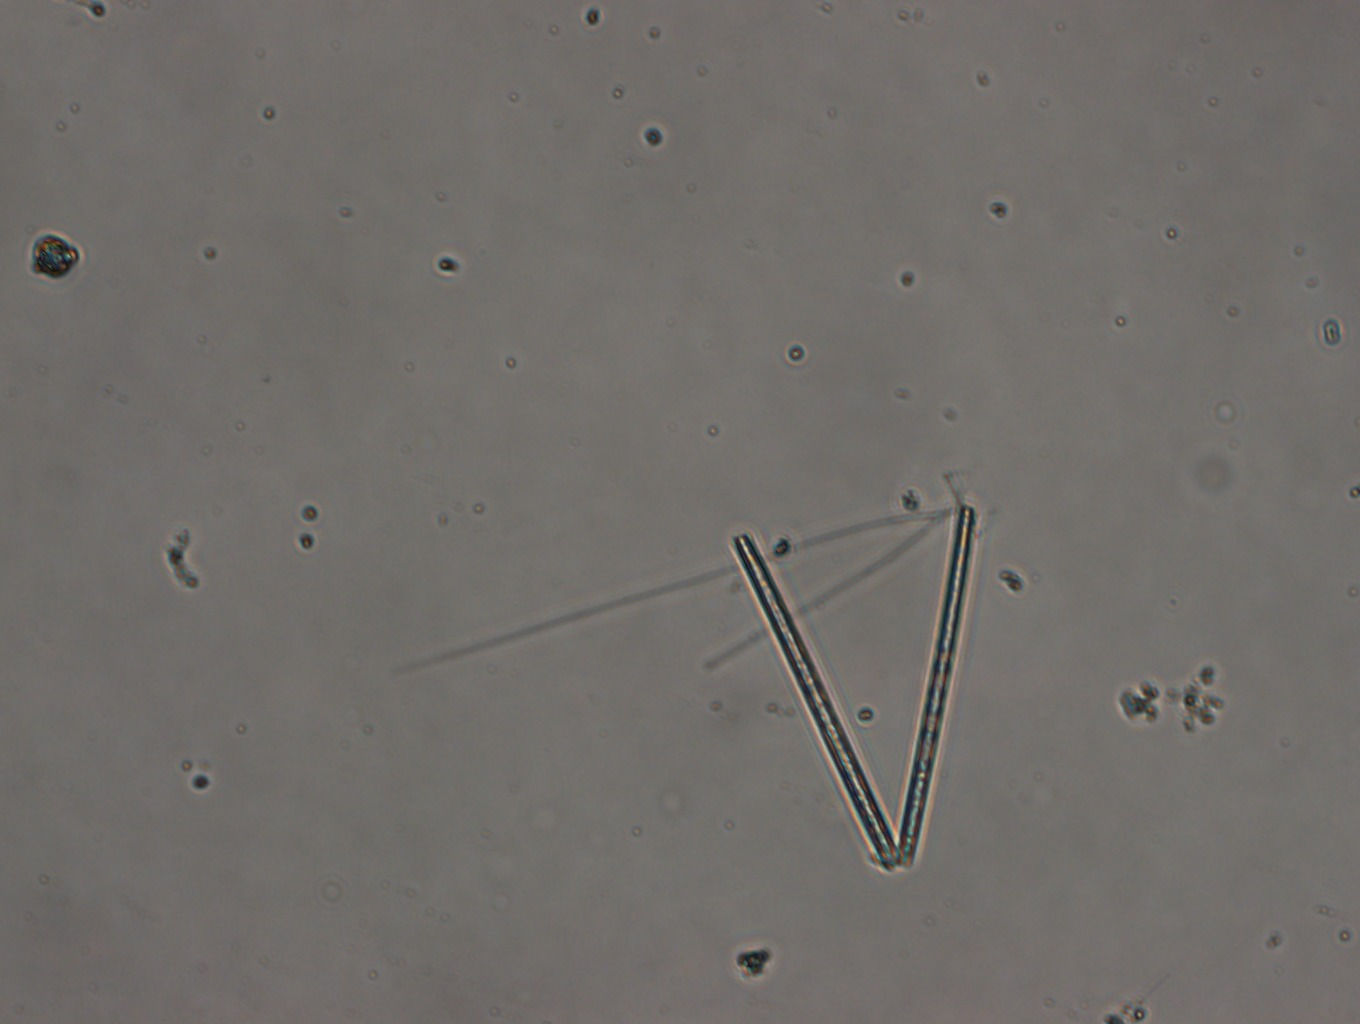thalassionema frauenfeldii: (725, 504, 987, 880)
